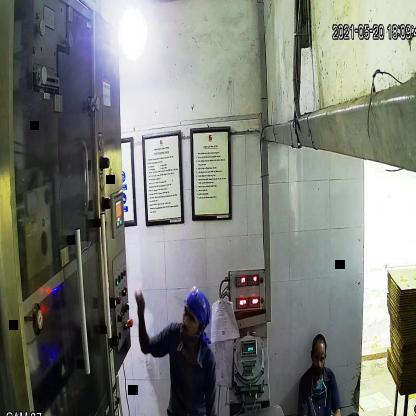no_goggles: (182, 304, 200, 330), (309, 347, 327, 365)
